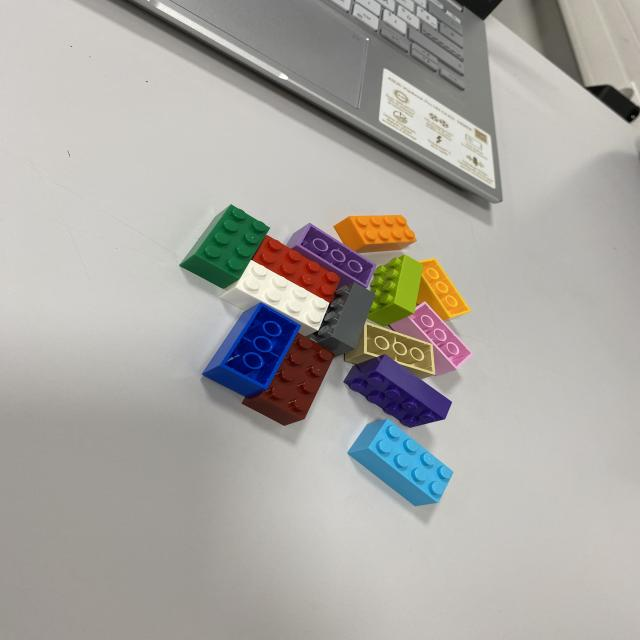C4x2x1: (348, 420, 456, 508)
